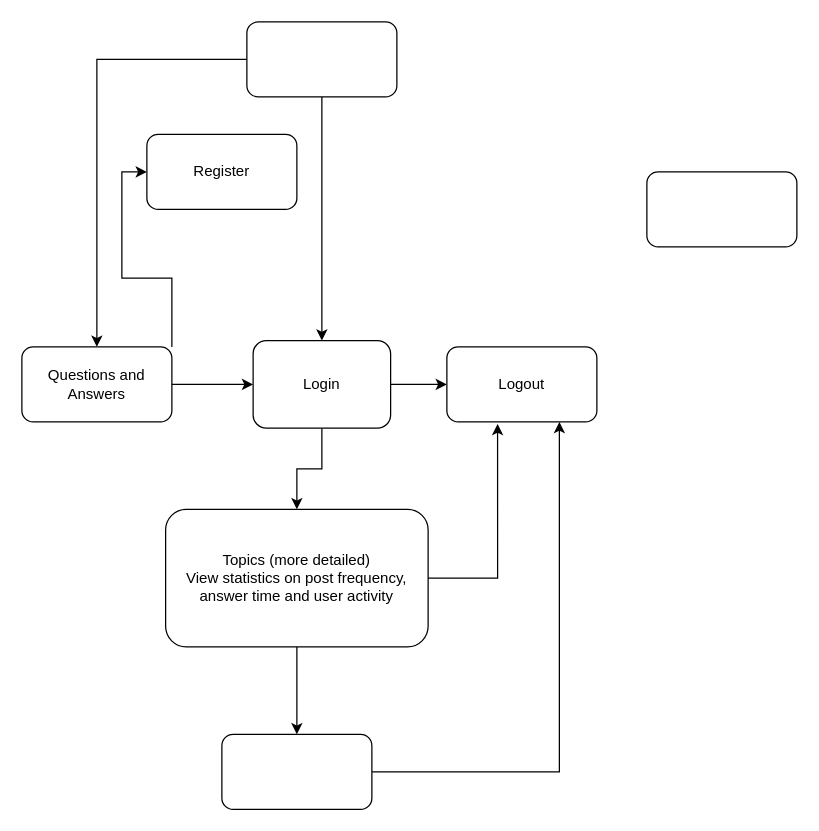
This 819x831 diagram has some shape labels left out. The shapes that lost their labels are listed below. From the top down, each one's centre as x and y in pixels, then its label:
point 321,59: Title: Description Topics (raw)
point 721,209: Admin User control
point 296,771: Topics (most detailed) Questions and Answers CRUD
